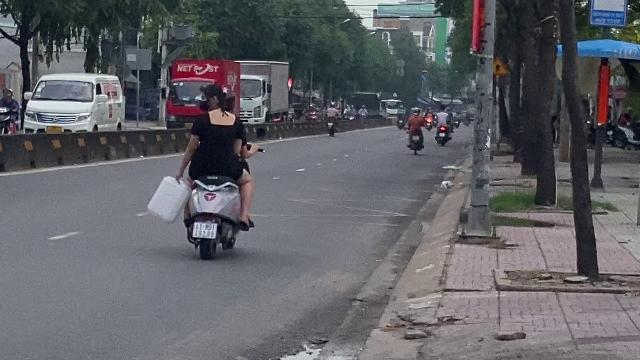licenseplate: (192, 221, 215, 236)
motorcyclist: (147, 78, 259, 260)
nohelmet: (195, 82, 225, 110)
